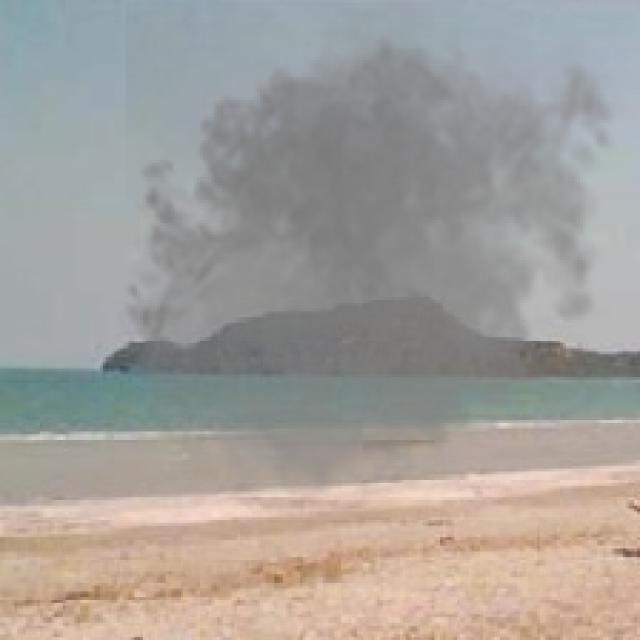Smoke: (114, 3, 629, 523)
